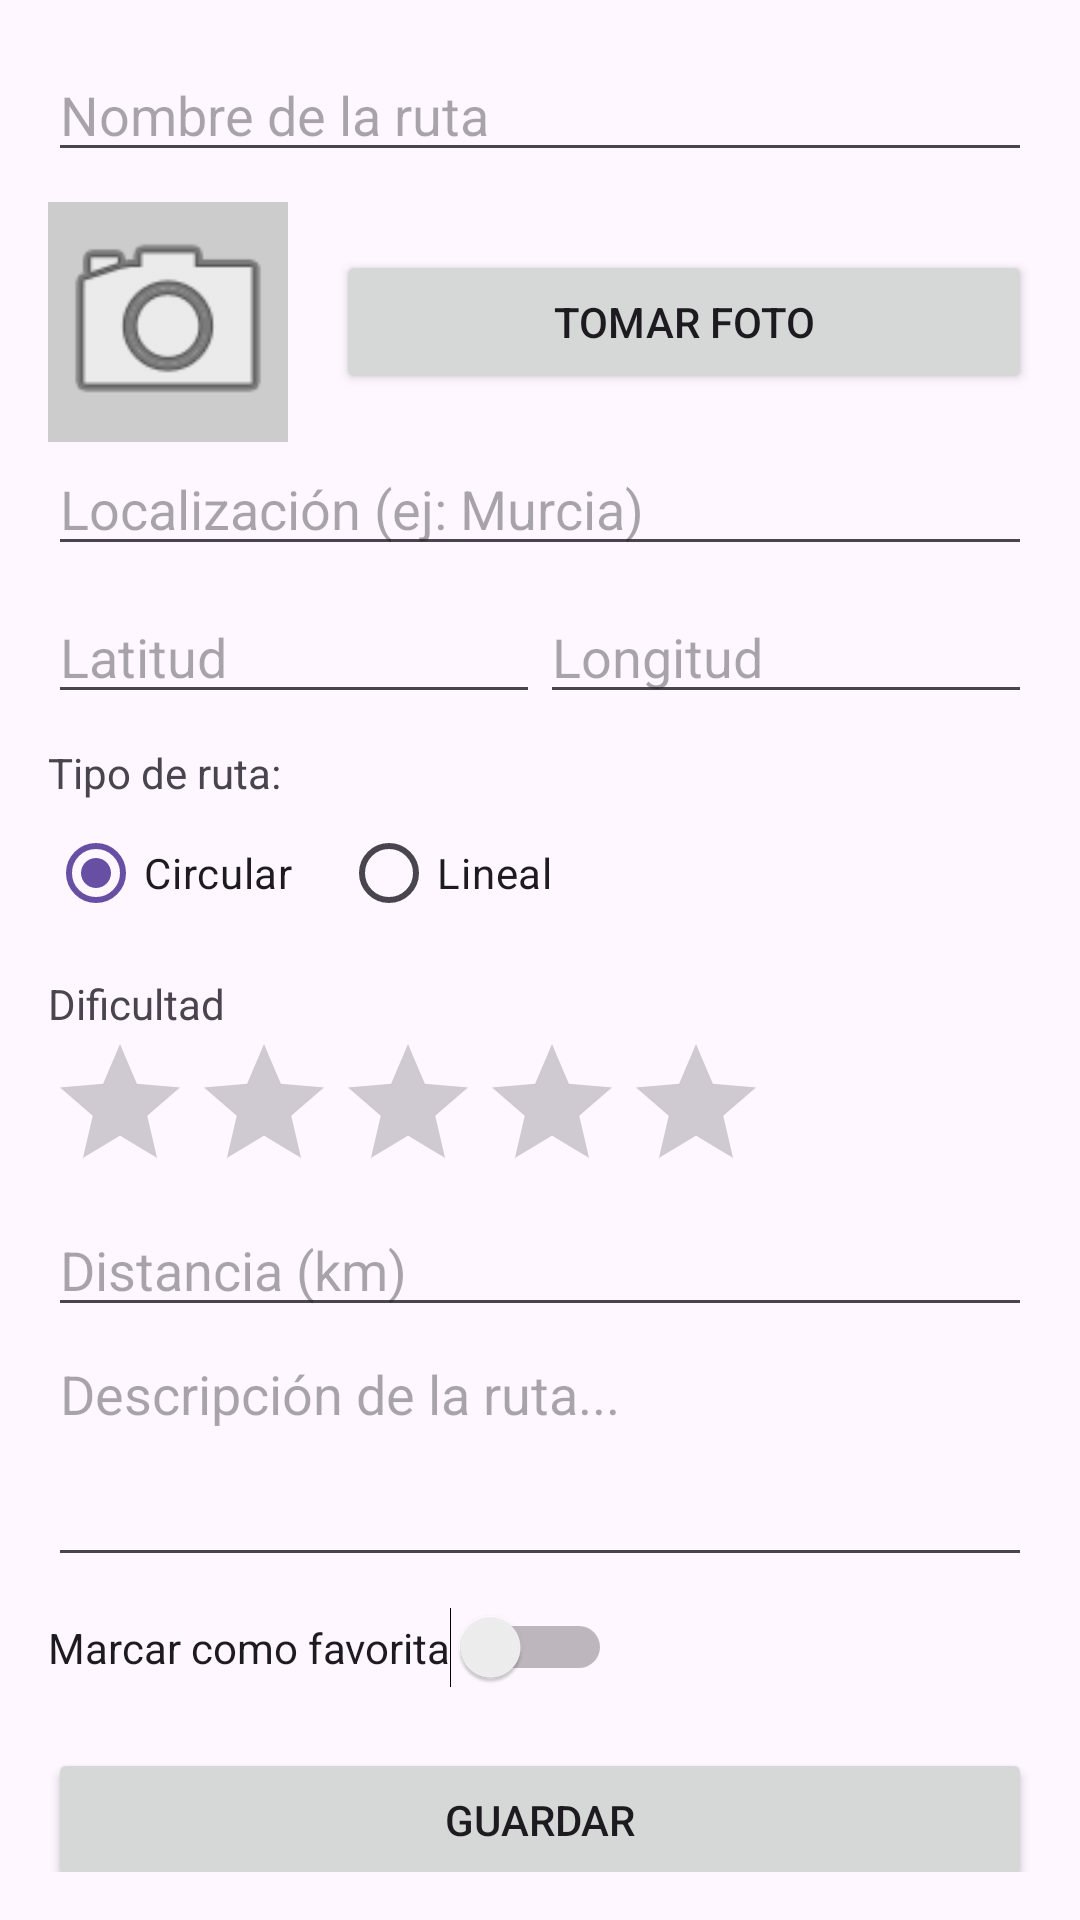

Icons on this 1080x1920 Android screen, each with the point to tap as [x,y]:
camera: [168,322]
